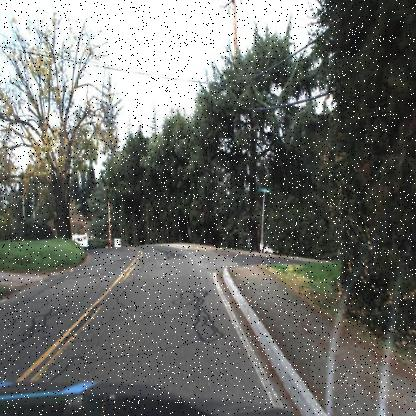car: (69, 228, 90, 253)
